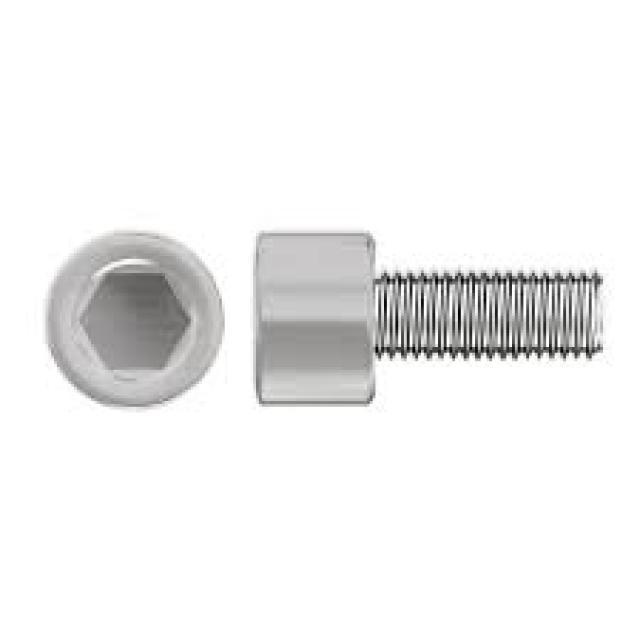allen: (45, 229, 225, 411)
